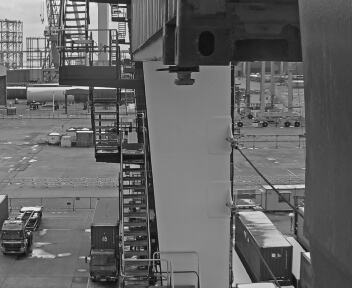twist_lock_1: (164, 60, 205, 93)
